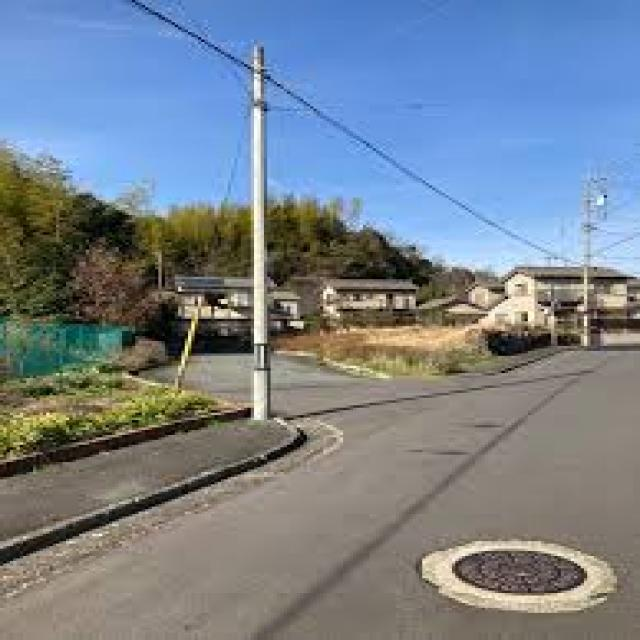manhole: (454, 551, 588, 595)
